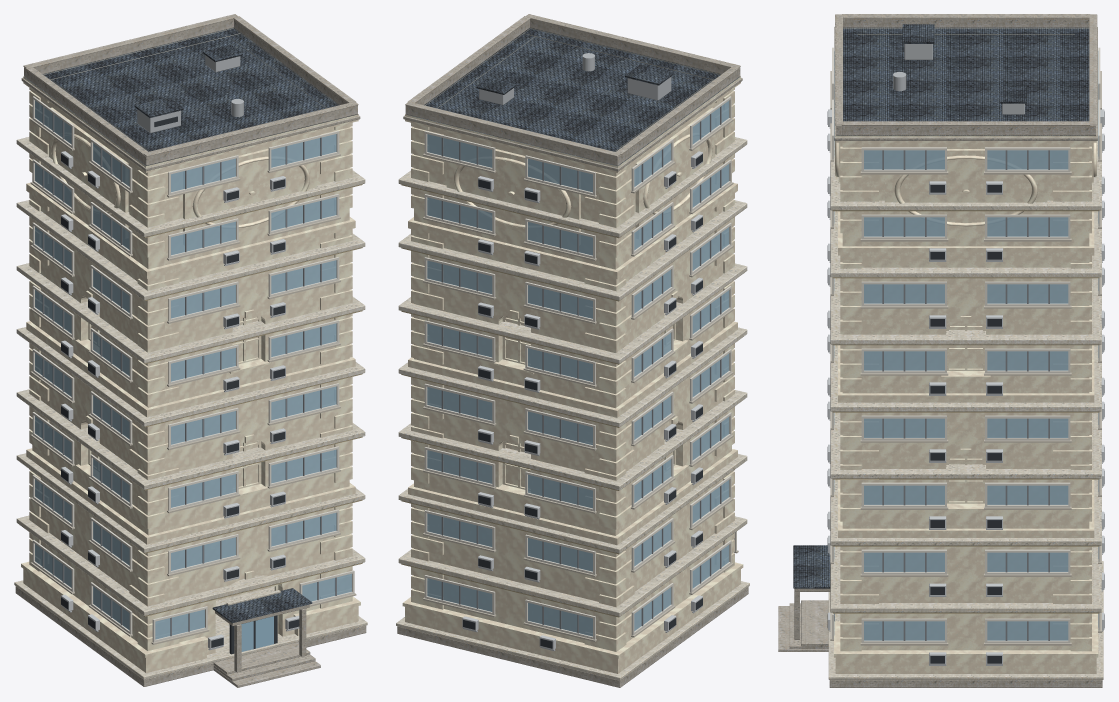
The model's file is ov-tower.glb.
3 renders of one model, left to right at view 1: azimuth 30°, elevation 25°; view 2: azimuth 150°, elevation 25°; view 3: azimuth 270°, elevation 25°, orthographic. The views are drawn at different scales.
Visible parts, largest first — view 1: tower_body_src, tower_roofslab, tower_cornice_z20.1, tower_cornice_z12.3, tower_cornice_z4.5, tower_cornice_z24.0, tower_cornice_z16.2, tower_cornice_z27.9, tower_plinth_cap, tower_cornice_z8.4, tower_plinth, tower_parapet_S (+47 smaller); view 2: tower_body_src, tower_roofslab, tower_cornice_z20.1, tower_cornice_z12.3, tower_cornice_z24.0, tower_cornice_z4.5, tower_cornice_z16.2, tower_cornice_z27.9, tower_cornice_z8.4, tower_plinth, tower_plinth_cap, tower_parapet_N (+42 smaller); view 3: tower_body_src, tower_roofslab, tower_cornice_z20.1, tower_cornice_z12.3, tower_cornice_z24.0, tower_cornice_z4.5, tower_cornice_z16.2, tower_cornice_z27.9, tower_cornice_z8.4, tower_parapet_E, tower_plinth_cap, tower_parapet_W (+33 smaller).
Boxes of the visible parts, x1=… form: tower_body_src: x1=21, y1=28, x2=360, y2=672; tower_roofslab: x1=24, y1=27, x2=357, y2=165; tower_cornice_z20.1: x1=16, y1=263, x2=365, y2=363; tower_cornice_z12.3: x1=16, y1=389, x2=365, y2=489; tower_cornice_z4.5: x1=16, y1=515, x2=365, y2=615; tower_cornice_z24.0: x1=16, y1=200, x2=365, y2=300; tower_cornice_z16.2: x1=16, y1=327, x2=365, y2=426; tower_cornice_z27.9: x1=16, y1=137, x2=365, y2=237; tower_plinth_cap: x1=14, y1=580, x2=367, y2=679; tower_cornice_z8.4: x1=16, y1=453, x2=365, y2=552; tower_plinth: x1=15, y1=586, x2=366, y2=686; tower_parapet_S: x1=143, y1=105, x2=357, y2=165; tower_body_src: x1=402, y1=28, x2=743, y2=673; tower_roofslab: x1=406, y1=27, x2=739, y2=166; tower_cornice_z20.1: x1=398, y1=263, x2=747, y2=363; tower_cornice_z12.3: x1=398, y1=389, x2=747, y2=490; tower_cornice_z24.0: x1=398, y1=200, x2=747, y2=300; tower_cornice_z4.5: x1=398, y1=516, x2=747, y2=616; tower_cornice_z16.2: x1=398, y1=327, x2=747, y2=427; tower_cornice_z27.9: x1=398, y1=137, x2=747, y2=237; tower_cornice_z8.4: x1=398, y1=454, x2=747, y2=553; tower_plinth: x1=397, y1=587, x2=748, y2=687; tower_plinth_cap: x1=396, y1=581, x2=749, y2=680; tower_parapet_N: x1=405, y1=105, x2=620, y2=165; tower_body_src: x1=834, y1=28, x2=1098, y2=673; tower_roofslab: x1=836, y1=27, x2=1095, y2=135; tower_cornice_z20.1: x1=830, y1=278, x2=1101, y2=344; tower_cornice_z12.3: x1=830, y1=412, x2=1101, y2=478; tower_cornice_z24.0: x1=830, y1=211, x2=1101, y2=277; tower_cornice_z4.5: x1=830, y1=546, x2=1101, y2=612; tower_cornice_z16.2: x1=830, y1=345, x2=1101, y2=411; tower_cornice_z27.9: x1=830, y1=140, x2=1101, y2=210; tower_cornice_z8.4: x1=830, y1=479, x2=1101, y2=545; tower_parapet_E: x1=842, y1=126, x2=1090, y2=135; tower_plinth_cap: x1=828, y1=561, x2=1103, y2=679; tower_parapet_W: x1=843, y1=18, x2=1089, y2=27.
Size of the model in its own units: 14.61 by 33.12 by 17.21.
Materials: 14 (4 with a texture image).
